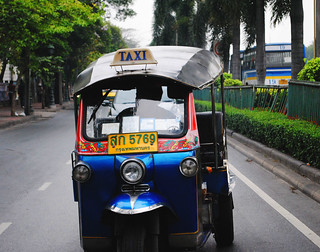threewheel: (70, 45, 235, 252)
